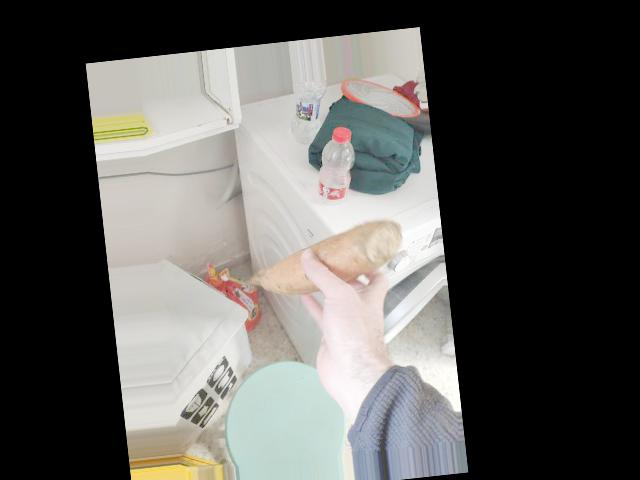sweet_potato: (241, 227, 404, 290)
